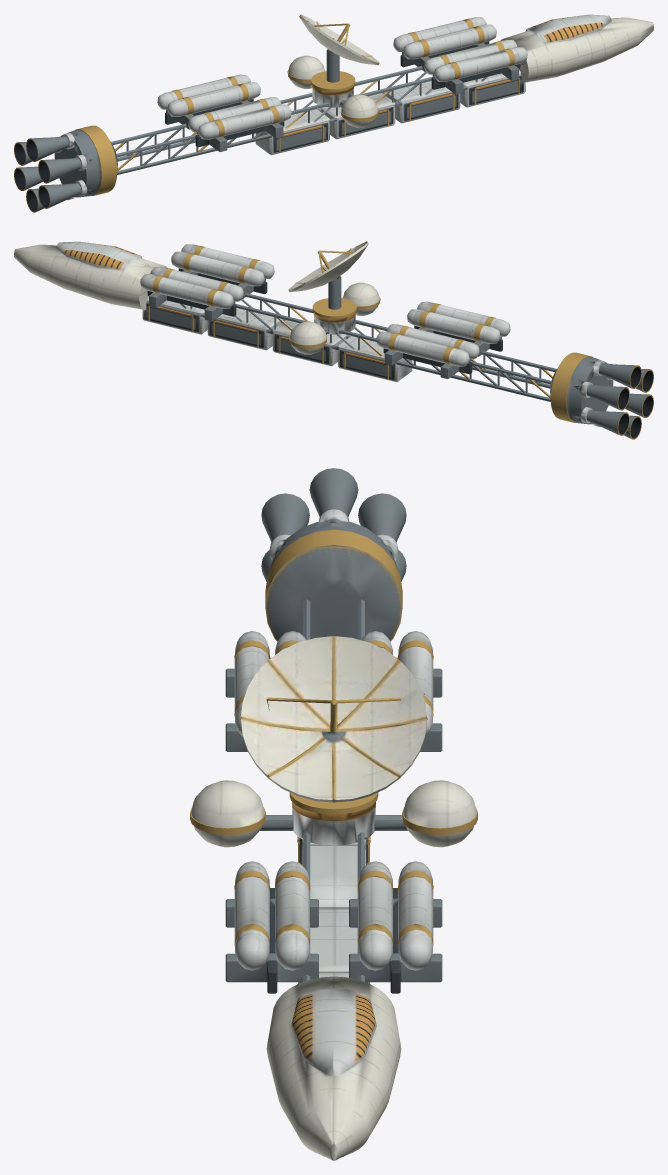
Rendered from spine-renewed.glb.
3 views of the same model, one above another, from view 1: azimuth 30°, elevation 25°; view 2: azimuth 150°, elevation 25°; view 3: azimuth 270°, elevation 25° (orthographic). The views are drawn at different scales.
Visible parts, largest first — view 1: spine-renewed; view 2: spine-renewed; view 3: spine-renewed.
Part boxes in pixels (box(x1,y1,x2,y2)): spine-renewed: box(14, 14, 653, 212); spine-renewed: box(14, 241, 653, 439); spine-renewed: box(190, 468, 477, 1160).
Size of the model in its own units: 1 by 0.1902 by 0.2009.
1 material, 1 textured.
